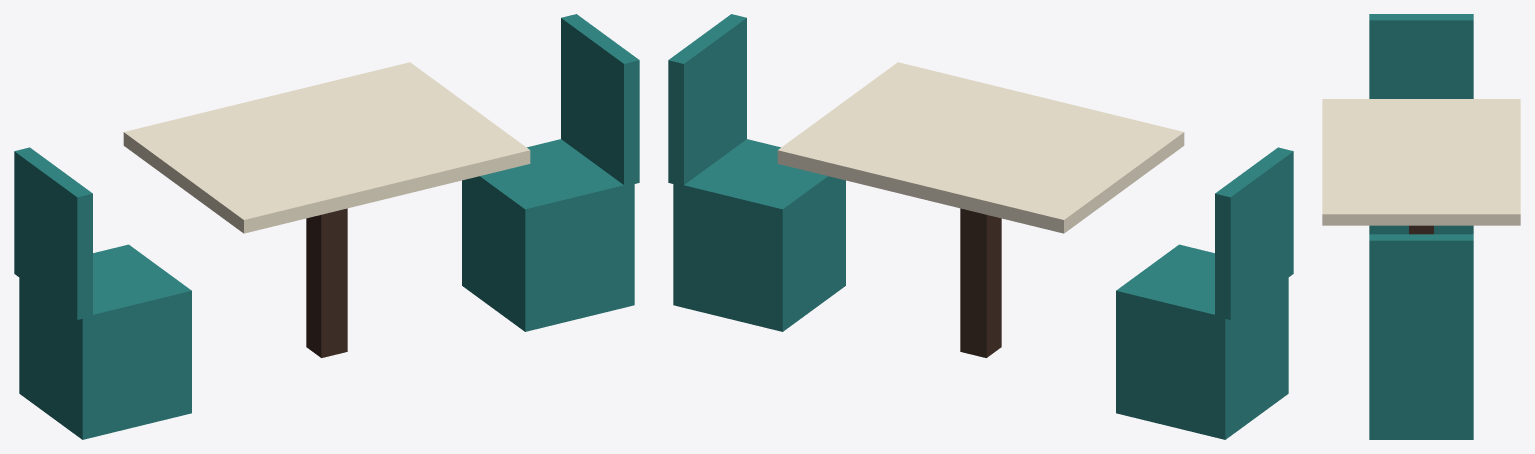
File: fc_table_4.glb
3 renders of one model, left to right at view 1: azimuth 30°, elevation 25°; view 2: azimuth 150°, elevation 25°; view 3: azimuth 270°, elevation 25°, orthographic. The views are drawn at different scales.
Visible parts, largest first — view 1: Box1, Box5, Box3, Box4, Box6, Box2; view 2: Box1, Box5, Box3, Box4, Box6, Box2; view 3: Box1, Box6, Box5, Box4, Box3, Box2.
Boxes of the visible parts, bbox=[...] form: Box1: bbox=[123, 62, 530, 233]; Box5: bbox=[462, 139, 634, 331]; Box3: bbox=[19, 244, 191, 439]; Box4: bbox=[14, 147, 92, 319]; Box6: bbox=[561, 14, 639, 186]; Box2: bbox=[306, 208, 347, 357]; Box1: bbox=[777, 62, 1184, 233]; Box5: bbox=[673, 139, 845, 331]; Box3: bbox=[1116, 244, 1288, 439]; Box4: bbox=[1215, 147, 1293, 319]; Box6: bbox=[668, 14, 746, 185]; Box2: bbox=[960, 208, 1001, 357]; Box1: bbox=[1322, 99, 1520, 225]; Box6: bbox=[1369, 234, 1473, 341]; Box5: bbox=[1369, 342, 1473, 439]; Box4: bbox=[1369, 14, 1473, 98]; Box3: bbox=[1369, 225, 1473, 234]; Box2: bbox=[1409, 225, 1433, 234].
Bounding box in the file's own units: 2.16 × 0.895 × 0.8.
